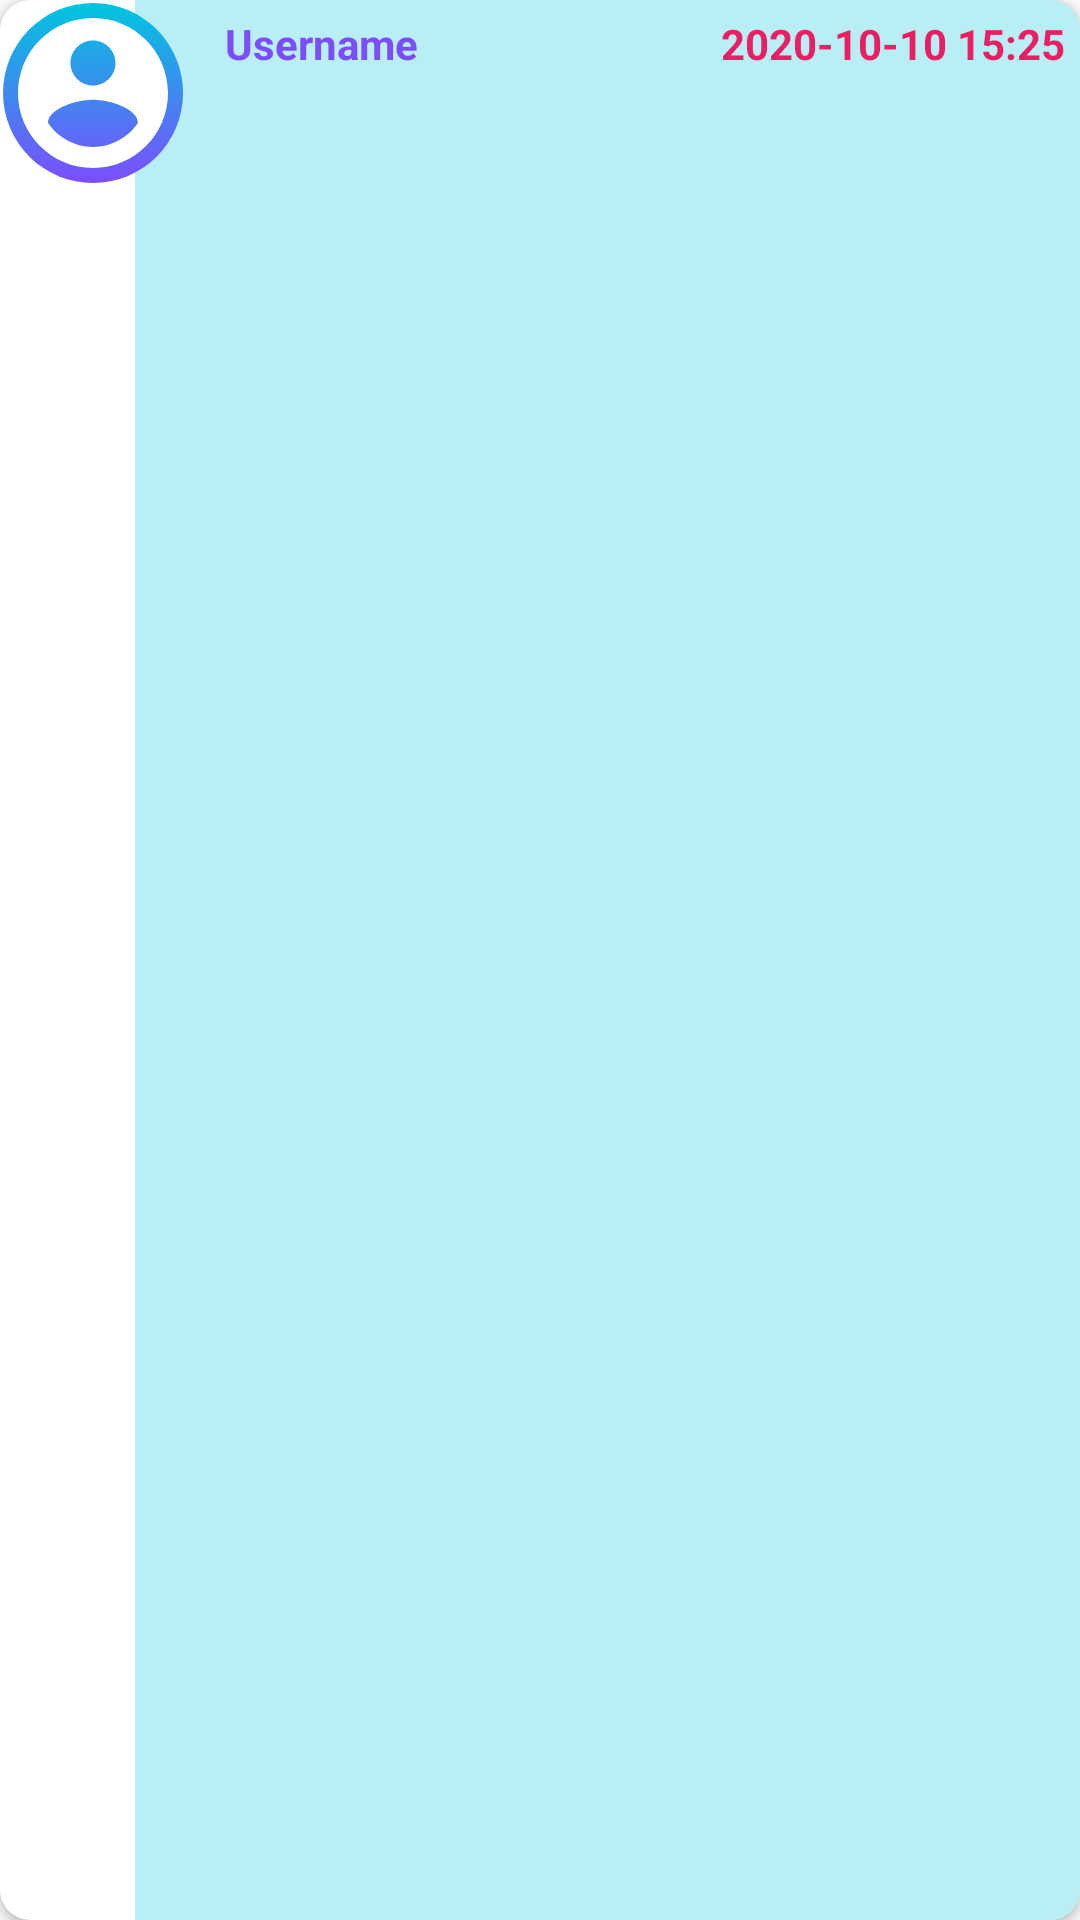

Icon click points for this 1080w x 1920h phone screenshot, format (x,y):
commentphoto: (93,93)
